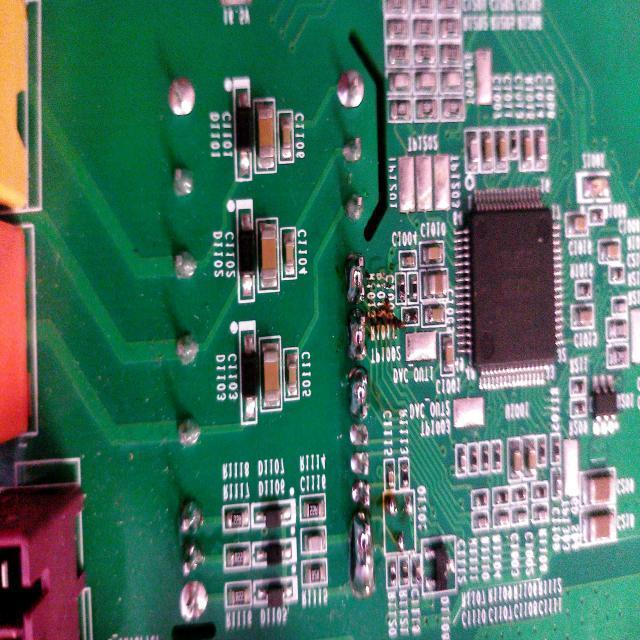Soldering shorted: (337, 302, 377, 368), (349, 508, 374, 604), (339, 241, 372, 309), (342, 357, 374, 422)
